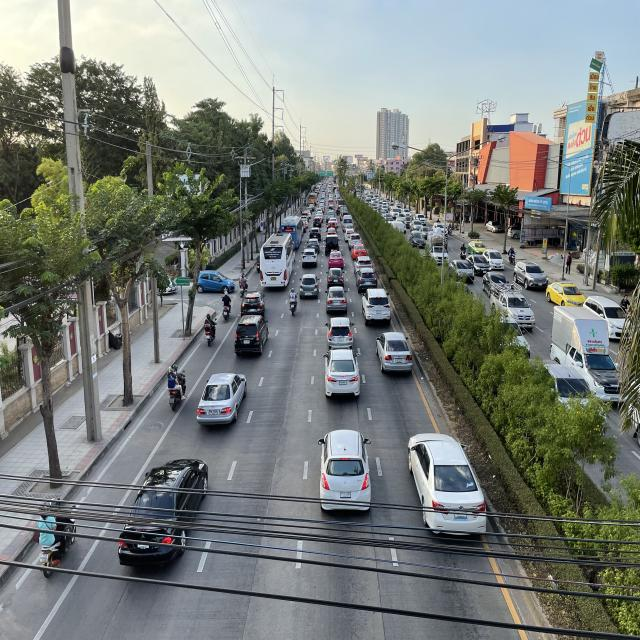bike: (34, 483, 81, 579), (156, 360, 188, 416), (199, 304, 218, 352), (284, 281, 300, 317)
bus: (257, 231, 295, 292)
